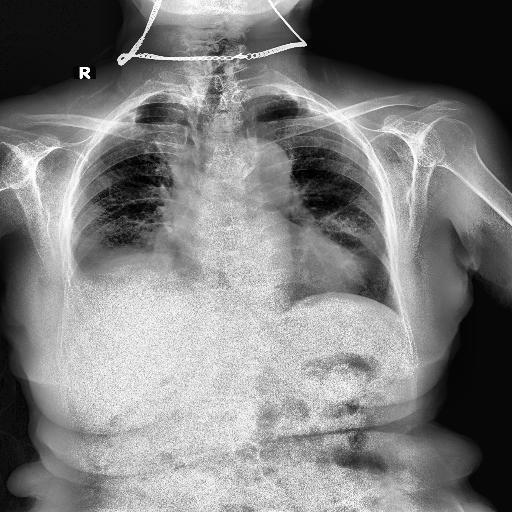0- Aortic enlargement: (224, 137, 290, 196), (230, 136, 292, 194), (226, 136, 292, 179)
10- Pleural effusion: (68, 252, 100, 294), (58, 270, 90, 294)
11- Pleural thickening: (270, 90, 326, 110), (58, 270, 90, 294)
13- Pulmonary fibrosis: (124, 110, 143, 128)
3- Cardiomegaly: (155, 240, 367, 304), (178, 230, 374, 298), (176, 227, 368, 293)
